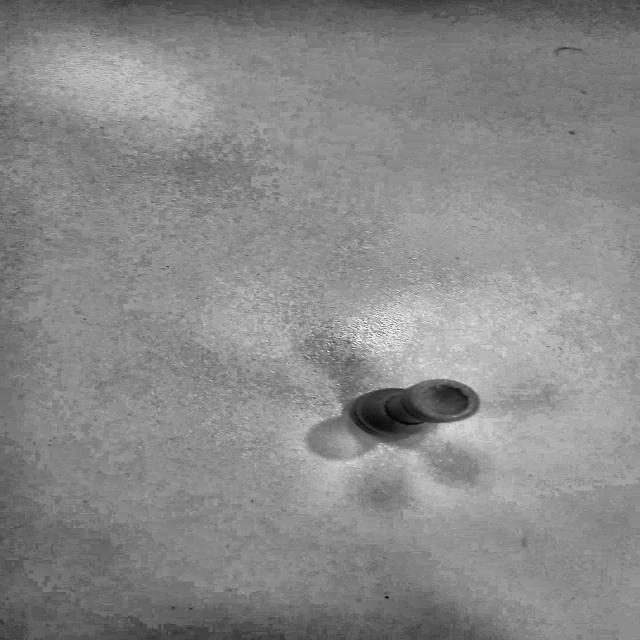white-rook: (348, 380, 480, 442)
